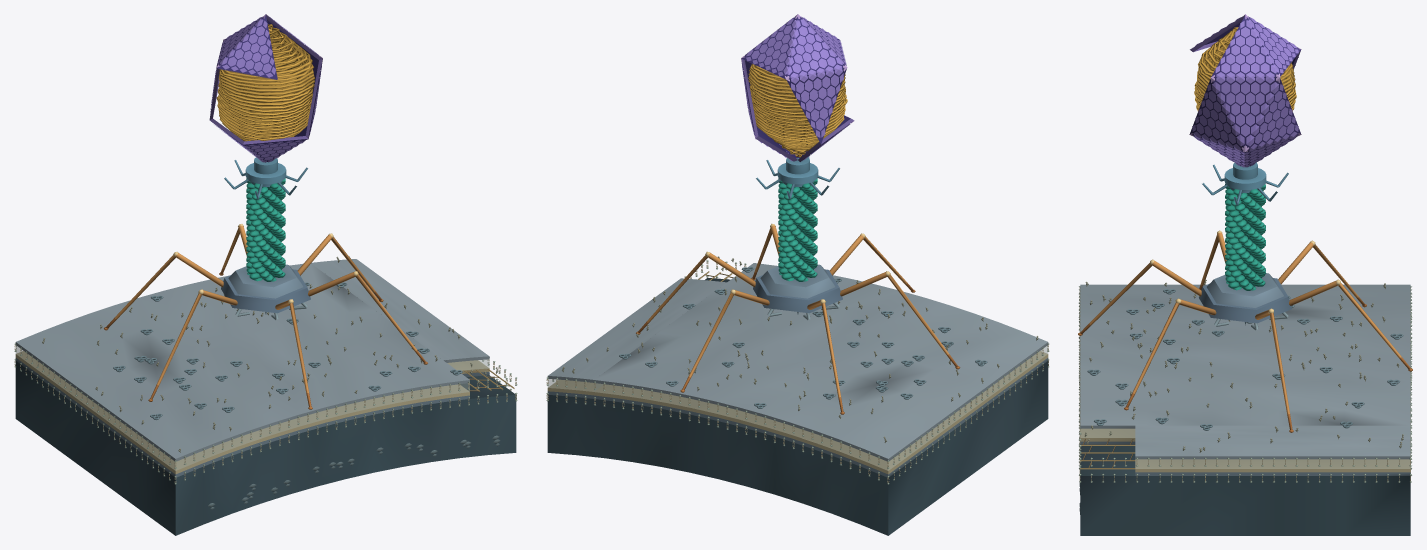
File: bacteriophage-v3.glb
The picture shows the model from 3 angles, left to right: view 1: azimuth 30°, elevation 25°; view 2: azimuth 150°, elevation 25°; view 3: azimuth 270°, elevation 25°; orthographic projection. The views are drawn at different scales.
Size of the model in its own units: 3.12 by 3.67 by 2.55.
